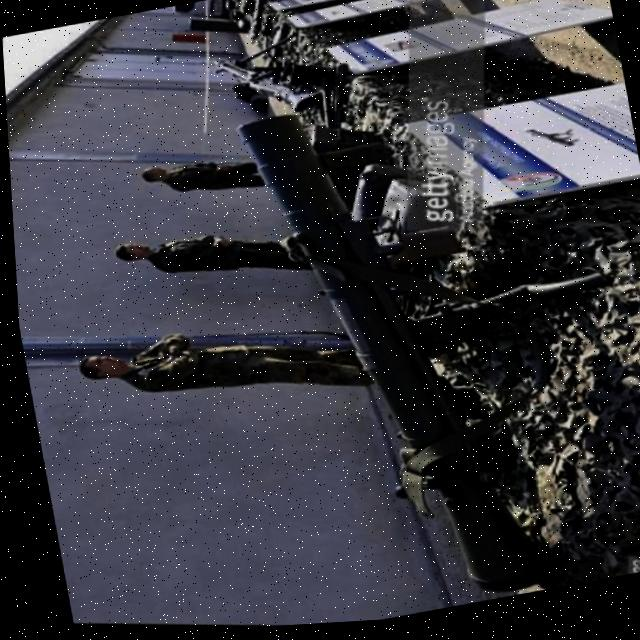rocket: (139, 66, 631, 634)
